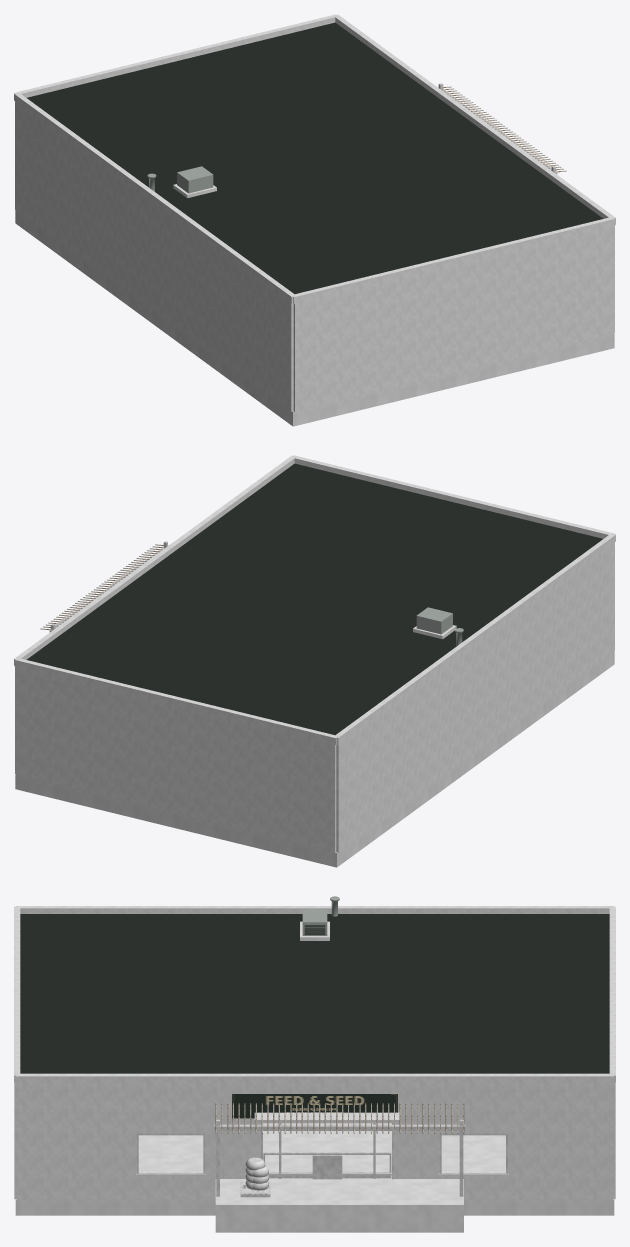
Rendered from SM_Town_Feed_Shell.glb.
3 renders of one model, top to bottom at view 1: azimuth 30°, elevation 25°; view 2: azimuth 150°, elevation 25°; view 3: azimuth 270°, elevation 25°, orthographic. The views are drawn at different scales.
Visible parts, largest first — view 1: SM_Town_Feed_Shell; view 2: SM_Town_Feed_Shell; view 3: SM_Town_Feed_Shell.
Boxes of the visible parts, x1=… form: SM_Town_Feed_Shell: x1=14, y1=14, x2=615, y2=426; SM_Town_Feed_Shell: x1=14, y1=455, x2=615, y2=867; SM_Town_Feed_Shell: x1=14, y1=896, x2=615, y2=1232.
Bounding box in the file's own units: 18.72 × 6.77 × 24.25.
Materials: 9 (7 with a texture image).
